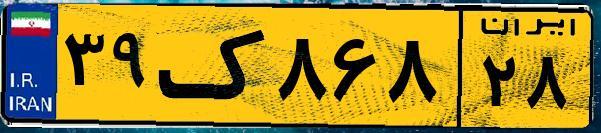2: (475, 38, 525, 113)
3: (57, 26, 110, 100)
6: (330, 28, 385, 110)
8: (270, 28, 330, 110), (385, 28, 445, 110), (525, 38, 570, 115)
9: (110, 28, 158, 98)
ک: (158, 12, 270, 120)
